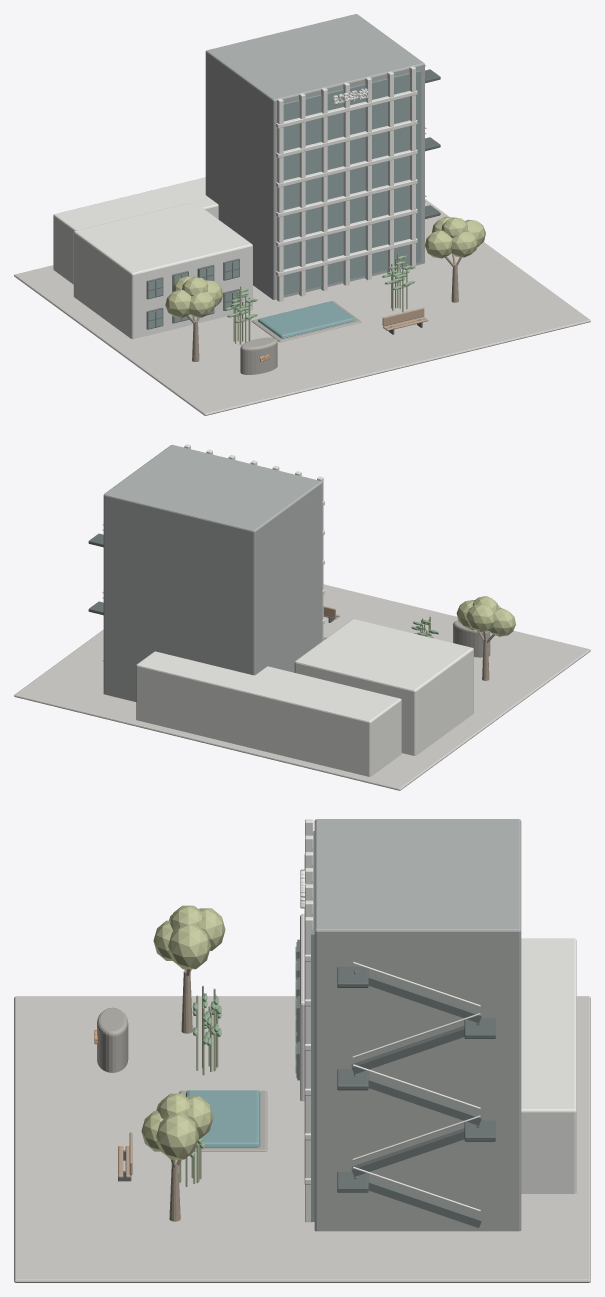
File: debi-fahua-525.glb
3 views of the same model, one above another, from view 1: azimuth 30°, elevation 25°; view 2: azimuth 150°, elevation 25°; view 3: azimuth 270°, elevation 25° (orthographic). The views are drawn at different scales.
Parts seen in each view (by area): view 1: debi-fahua-525; view 2: debi-fahua-525; view 3: debi-fahua-525.
Boxes of the visible parts, x1,y1,x2,y2 form: debi-fahua-525: [14, 14, 590, 415]; debi-fahua-525: [14, 444, 590, 790]; debi-fahua-525: [14, 819, 590, 1282].
Bounding box in the file's own units: 28 × 14.19 × 24.
